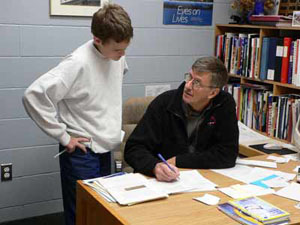Person: (32, 1, 131, 212), (143, 52, 244, 178)
